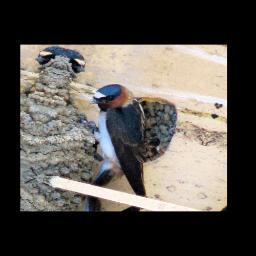Swallow: (63, 79, 188, 198)
